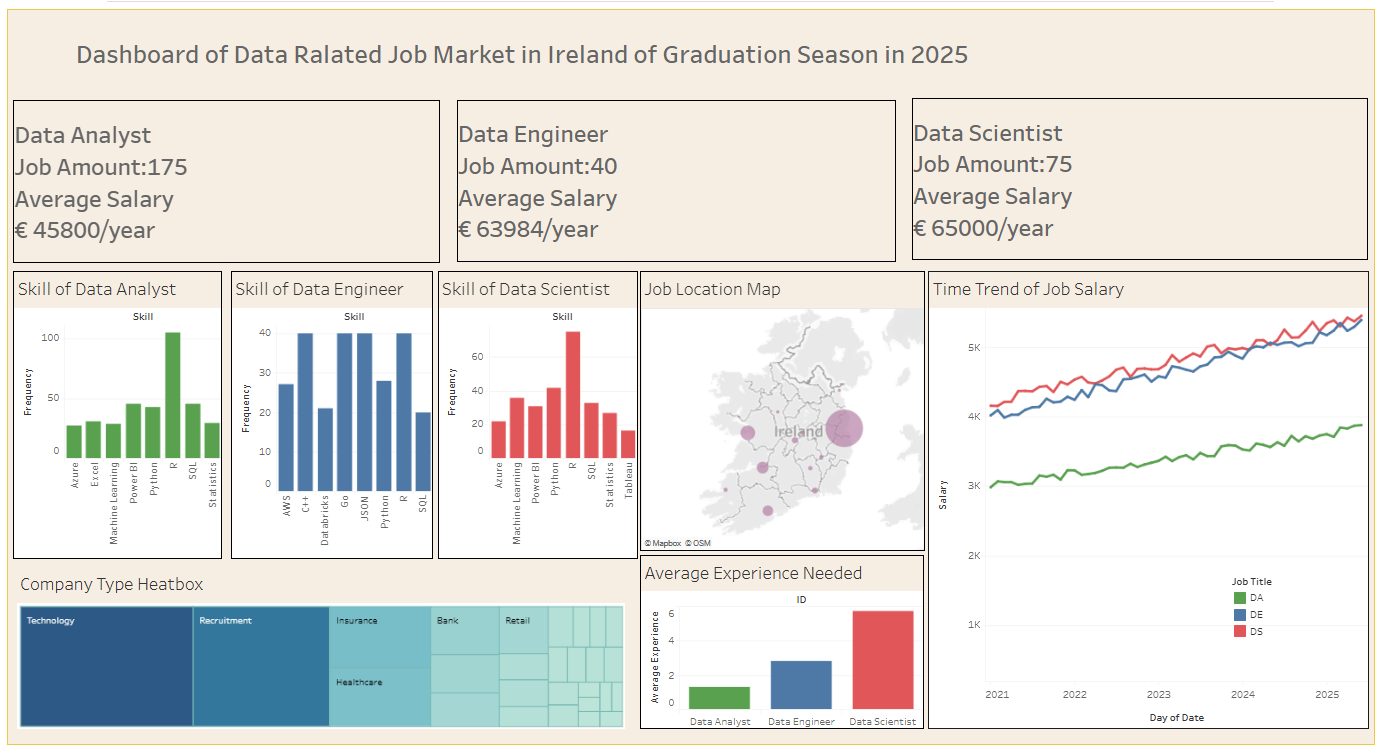

The dashboard page shown, as its layout file describes it:
{"tool":"tableau","page":{"name":"Dashboard","canvas":[1000,1000],"units":"permille","ordinal":0},"visuals":[{"type":"text","box":[54.8,17.8,900.1,102.2]},{"type":"text","box":[660,127.8,330.3,216.7]},{"type":"text","box":[330.3,130,318.1,216.7]},{"type":"text","box":[9.8,131.1,309,216.7]},{"type":"worksheet","title":"Skill of Data Analyst","mark":"Automatic","rows":["Frequency"],"cols":["Skill"],"box":[9.8,358.9,151.1,383.3]},{"type":"worksheet","title":"Skill of Data Engineer","mark":"Automatic","rows":["Frequency"],"cols":["Skill"],"box":[167,358.9,146.9,383.3]},{"type":"worksheet","title":"Skill of Data Scientist","mark":"Automatic","rows":["Frequency"],"cols":["Skill"],"box":[316.9,358.9,144.4,383.3]},{"type":"worksheet","title":"Job Location Map","mark":"Automatic","rows":["latitude"],"cols":["longitude"],"box":[463.1,358.9,206.6,373.3]},{"type":"worksheet","title":"Time Trend of Job Salary","mark":"Line","rows":["Pivot Field Values"],"cols":["Pivot Field Names"],"box":[672.1,358.9,318.7,611.1]},{"type":"worksheet","title":"Average Experience Needed","mark":"Automatic","rows":["Average_Experience"],"cols":["ID"],"box":[463.1,736.7,206,232.2]},{"type":"worksheet","title":"Company Type Heatbox","mark":"Automatic","box":[9.8,748.9,450.9,228.9]},{"type":"legend","title":"Time Trend of Job Salary","param":"[federated.1s6k5kx0yizc5u1dk7e7j0v3qcmq].[none:ID:nk]","box":[891.7,762.2,80.2,100]}]}

Visuals, with their boxes on the dashboard's canvas, which has no fixed pixel size, in thousandths of its width and height (x1, y1, x2, y2). These are canvas units, not pixel positions in the 1386x751 screenshot, which may show the page scaled, cropped or inside an application window:
text: bbox=(55, 18, 955, 120)
text: bbox=(660, 128, 990, 344)
text: bbox=(330, 130, 648, 347)
text: bbox=(10, 131, 319, 348)
"Skill of Data Analyst" worksheet: bbox=(10, 359, 161, 742)
"Skill of Data Engineer" worksheet: bbox=(167, 359, 314, 742)
"Skill of Data Scientist" worksheet: bbox=(317, 359, 461, 742)
"Job Location Map" worksheet: bbox=(463, 359, 670, 732)
"Time Trend of Job Salary" worksheet (Line marks): bbox=(672, 359, 991, 970)
"Average Experience Needed" worksheet: bbox=(463, 737, 669, 969)
"Company Type Heatbox" worksheet: bbox=(10, 749, 461, 978)
"Time Trend of Job Salary" legend: bbox=(892, 762, 972, 862)
